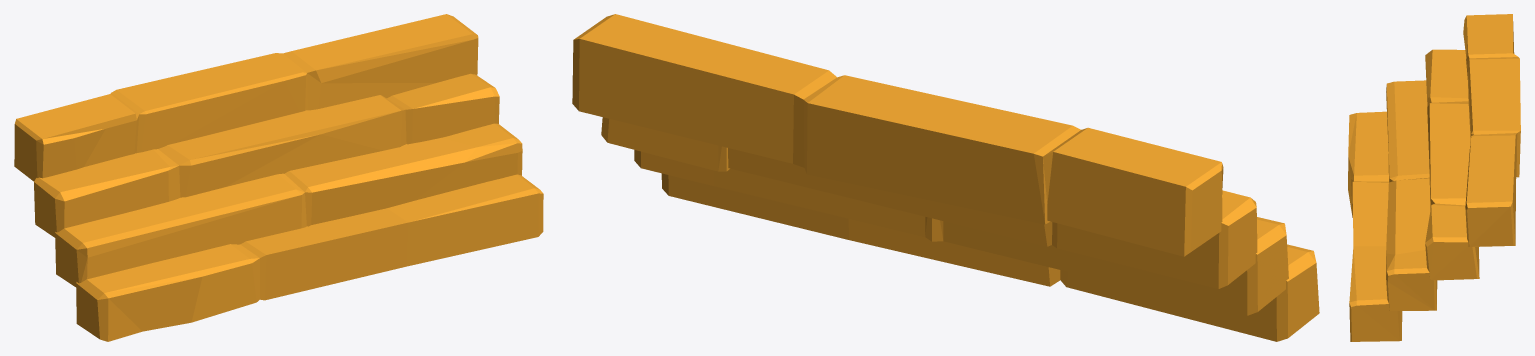
The model's file is SM_Stairs_Stone_Basic_Fantasy.fbx.
The picture shows the model from 3 angles, left to right: view 1: azimuth 30°, elevation 25°; view 2: azimuth 150°, elevation 25°; view 3: azimuth 270°, elevation 25°; orthographic projection. The views are drawn at different scales.
Parts seen in each view (by area): view 1: SM_Stairs_Stone_Basic_Fantasy; view 2: SM_Stairs_Stone_Basic_Fantasy; view 3: SM_Stairs_Stone_Basic_Fantasy.
Part boxes in pixels (x1,y1,x2,y2): SM_Stairs_Stone_Basic_Fantasy: (14, 14, 543, 341); SM_Stairs_Stone_Basic_Fantasy: (572, 14, 1319, 341); SM_Stairs_Stone_Basic_Fantasy: (1348, 14, 1520, 341).
Size of the model in its own units: 3.09 by 1.06 by 1.17.
